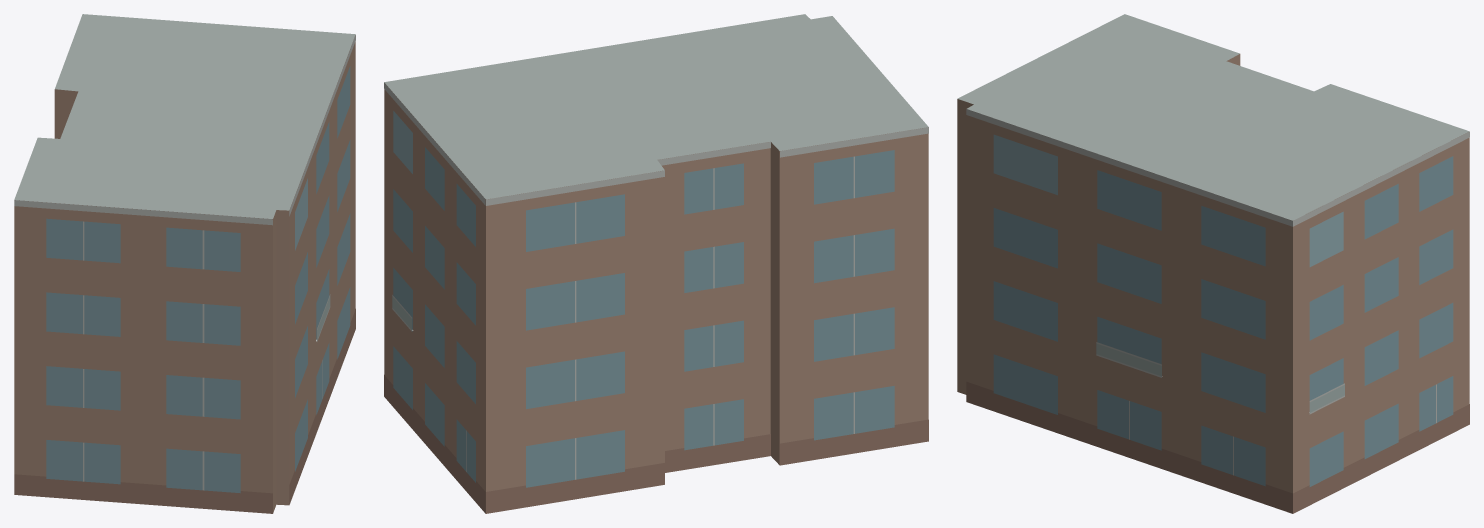
The model's file is survey-upis-32893474.glb.
3 views of the same model, side by side, from view 1: azimuth 30°, elevation 25°; view 2: azimuth 150°, elevation 25°; view 3: azimuth 270°, elevation 25° (orthographic). The views are drawn at different scales.
Visible parts, largest first — view 1: survey-upis-32893474.tmp; view 2: survey-upis-32893474.tmp; view 3: survey-upis-32893474.tmp.
Boxes of the visible parts, x1=… form: survey-upis-32893474.tmp: x1=14, y1=14, x2=355, y2=513; survey-upis-32893474.tmp: x1=384, y1=14, x2=928, y2=513; survey-upis-32893474.tmp: x1=957, y1=14, x2=1469, y2=513.
Bounding box in the file's own units: 17.86 × 11.8 × 18.71.
